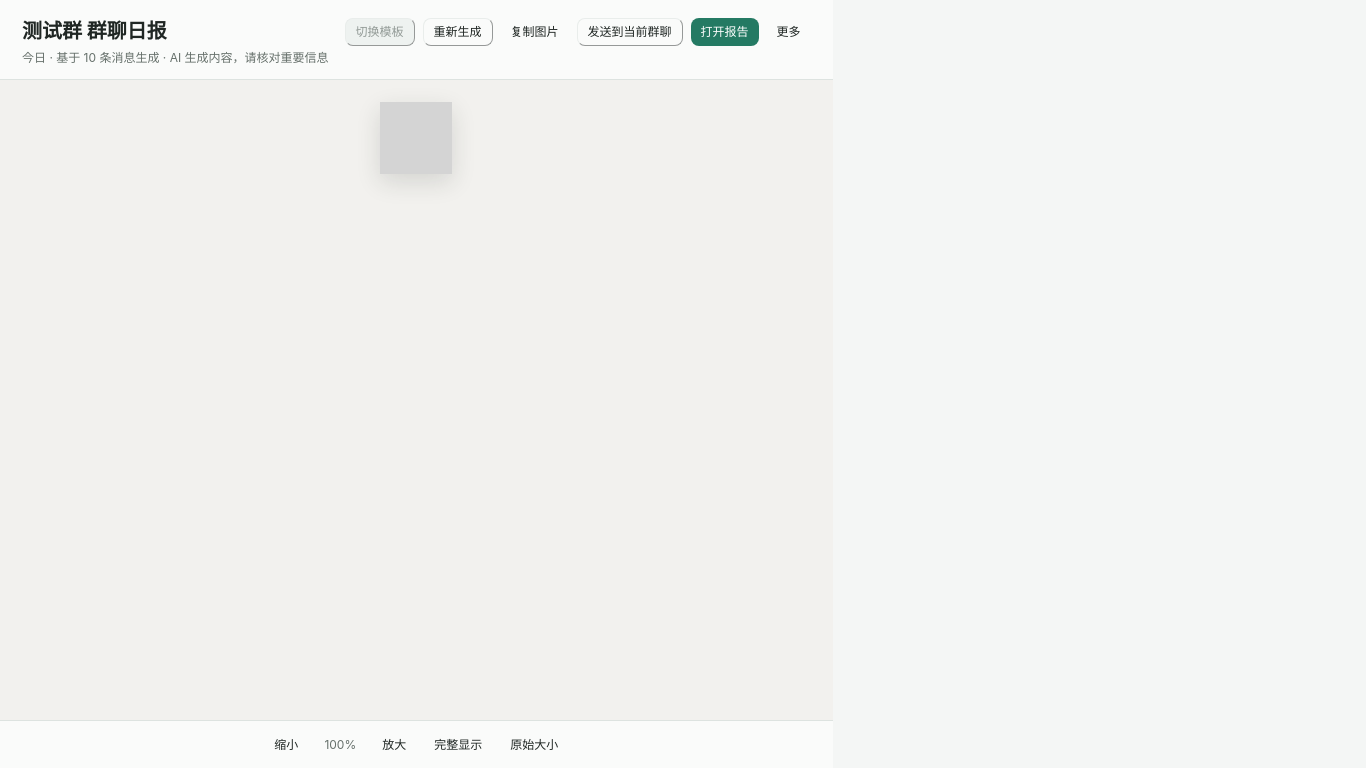
Scenario: daily report controls › opens the current group send dialog with the report PNG ready to send
Click the button "发送到当前群聊" at (630, 32), box [577,18,683,46]
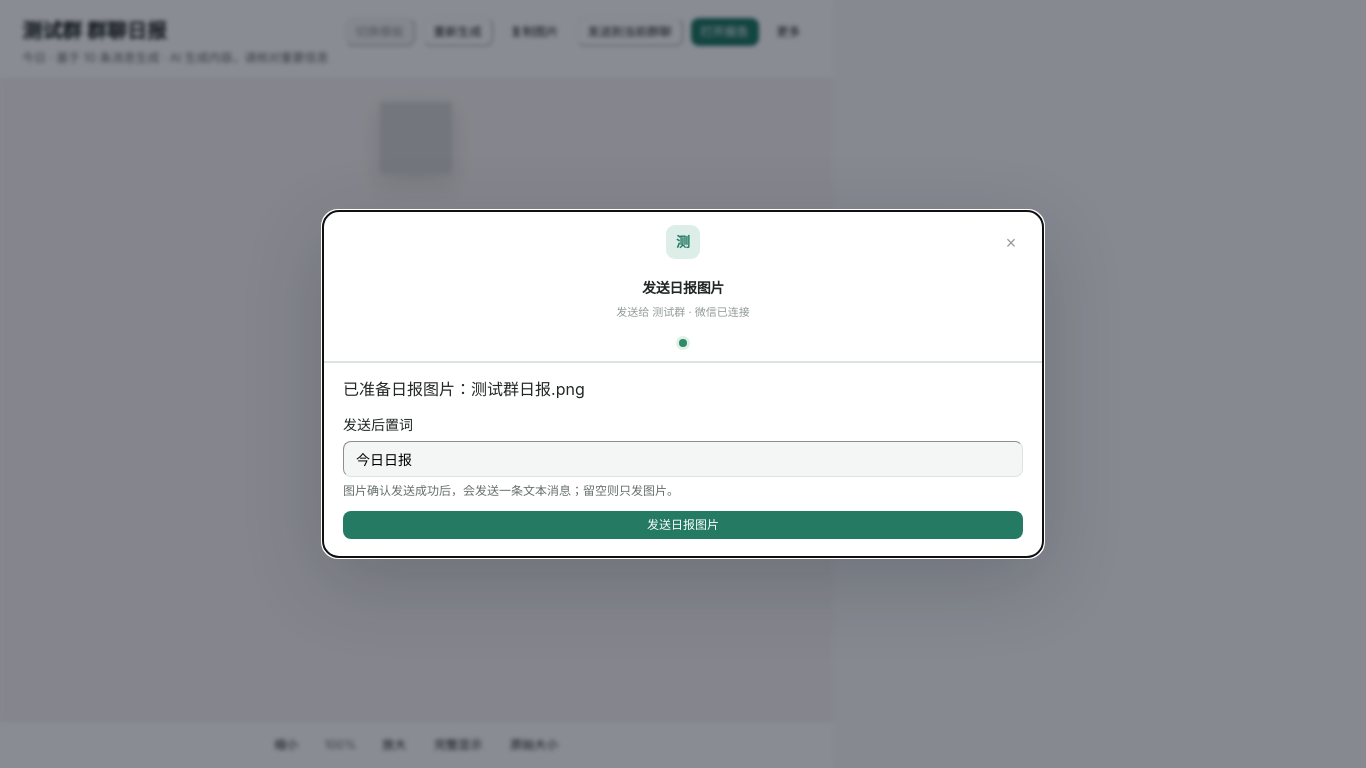
Expected: the dialog "测试群" is shown, [323,211,1043,557]
Expected: the heading "发送日报图片" is shown, [642,279,724,296]
Expected: the field labelled "发送后置词" holds "今日日报", [343,441,1023,477]
